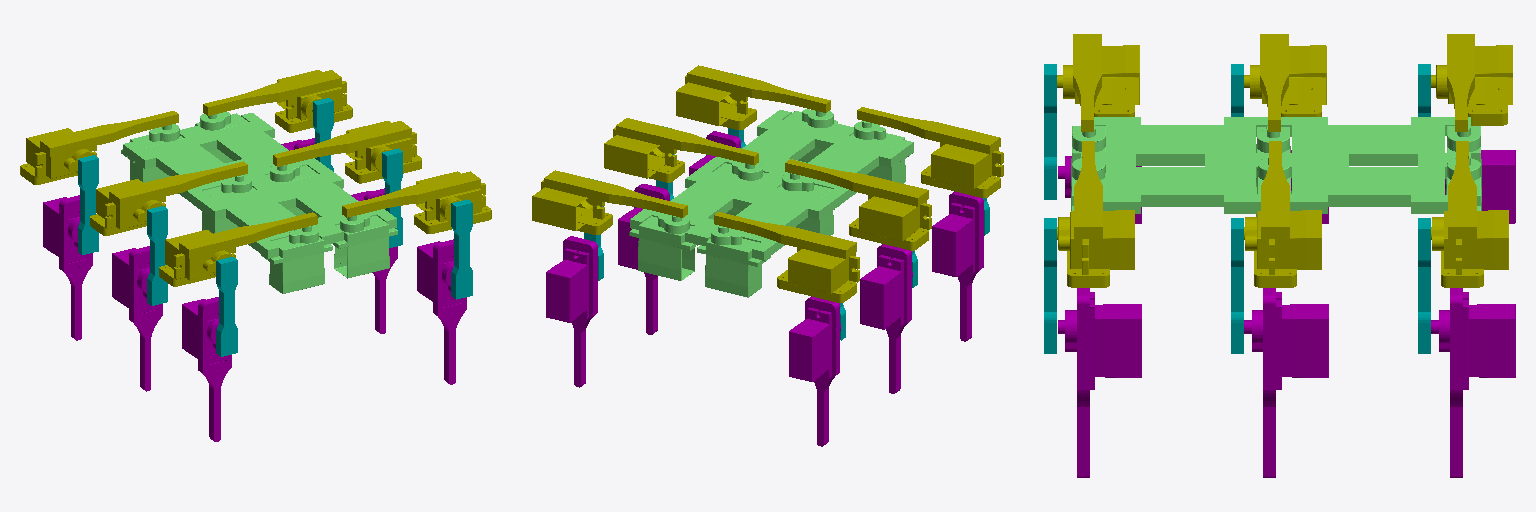
--- Facts derived from the render (not from the file) ---
Views: 3 orthographic renders of the robot side by side, from view 1: azimuth 30°, elevation 25°; view 2: azimuth 150°, elevation 25°; view 3: azimuth 270°, elevation 25°.
Robot: aranha — 44 links, 43 joints (18 revolute, 25 fixed); root link base_link; default pose: all joints at 0.
Visible links, largest first — view 1: thorax, coxa_1, coxa_3, coxa_2, coxa_4, coxa_5, coxa_6, tibia_6, tibia_3, tibia_2, tibia_1, femur_3 (+6 smaller); view 2: thorax, coxa_2, coxa_3, coxa_1, coxa_4, coxa_5, coxa_6, tibia_4, tibia_2, tibia_3, tibia_1, tibia_5 (+1 smaller); view 3: thorax, tibia_4, tibia_5, tibia_6, coxa_5, coxa_4, coxa_6, coxa_1, coxa_2, coxa_3, tibia_1, femur_3 (+5 smaller).
Link boxes in pixels (x1,y1,x2,y2): thorax: (121, 112, 397, 293); coxa_1: (20, 111, 178, 184); coxa_3: (159, 212, 317, 286); coxa_2: (90, 161, 247, 235); coxa_4: (203, 70, 352, 132); coxa_5: (273, 121, 421, 183); coxa_6: (342, 171, 491, 233); tibia_6: (417, 239, 466, 384); tibia_3: (182, 297, 231, 441); tibia_2: (112, 246, 162, 391); tibia_1: (43, 195, 92, 340); femur_3: (216, 257, 237, 356); thorax: (629, 109, 913, 297); coxa_2: (785, 159, 931, 250); coxa_3: (857, 107, 1003, 197); coxa_1: (714, 212, 859, 302); coxa_4: (532, 170, 687, 234); coxa_5: (604, 118, 758, 182); coxa_6: (676, 65, 830, 129); tibia_4: (546, 236, 597, 387); tibia_2: (860, 244, 912, 393); tibia_3: (932, 191, 983, 341); tibia_1: (789, 296, 840, 446); tibia_5: (618, 184, 669, 334); thorax: (1071, 117, 1481, 216); tibia_4: (1431, 288, 1515, 477); tibia_5: (1244, 288, 1328, 477); tibia_6: (1058, 288, 1141, 477); coxa_5: (1244, 141, 1321, 287); coxa_4: (1431, 141, 1508, 287); coxa_6: (1057, 141, 1134, 287); coxa_1: (1431, 34, 1512, 131); coxa_2: (1244, 34, 1326, 131); coxa_3: (1057, 34, 1139, 131); tibia_1: (1445, 150, 1515, 223); femur_3: (1044, 64, 1056, 199).
Bounding box of the posed robot: 1.68 × 1.64 × 1.03 m (x, y, z).
Meshes: 5 distinct files referenced, 19 mesh visuals loaded (5 binary STL).

URDF robot description (aranha):
<?xml version="1.0" ?>
<!-- =================================================================================== -->
<!-- |    This document was autogenerated by xacro from aranha_modelo.xacro            | -->
<!-- |    EDITING THIS FILE BY HAND IS NOT RECOMMENDED                                 | -->
<!-- =================================================================================== -->
<robot name="aranha" xmlns:xacro="http://ros.org/wiki/xacro">
  <!--###################### Comunicacao com gazebo ###########################-->
  <gazebo>
    <plugin filename="libgazebo_ros_control.so" name="gazebo_ros_control">
      <robotNamespace>/crab</robotNamespace>
      <!--Nao sei o que faz -->
    </plugin>
  </gazebo>
  <!--######################## Faz a Base do Robo #############################-->
  <link name="base_link"/>
  <joint name="base_joint" type="fixed">
    <axis xyz="0 0 1"/>
    <parent link="base_link"/>
    <child link="thorax"/>
    <!-- <origin rpy="0 0 ${pi/2}" xyz="0 0 ${altura_base}"/> -->
    <origin rpy="0 0 0" xyz="0 0 0"/>
  </joint>
  <link name="thorax">
    <visual>
      <geometry>
        <mesh filename="package://robot_description/meshes/base.stl" scale="0.01 0.01 0.01"/>
      </geometry>
      <origin rpy="0 0 1.57079632679" xyz="0 0 0.8"/>
      <material name="verde_limao">
        <color rgba="0.5 0.9 0.5 1"/>
      </material>
    </visual>
  </link>
  <!--Joint e Link para fixar coxa (caso contrario gira em torno do centro da base)-->
  <joint name="perna_centro_joint_1" type="fixed">
    <axis xyz="0 0 1"/>
    <origin rpy="0 0 0" xyz="-0.115 0.65 0.91"/>
    <!-- imp -->
    <parent link="thorax"/>
    <child link="perna_centro_1"/>
  </joint>
  <link name="perna_centro_1">
    <inertial>
      <origin rpy="0.0 0.0 0.0" xyz="0.0 0.0 0.0"/>
      <mass value="0.00001"/>
      <inertia ixx="1" ixy="0" ixz="0" iyy="1" iyz="0" izz="1"/>
    </inertial>
  </link>
  <!--..............Joint entre "thorax"(thorax) e coxa / Link da Coxa ..........-->
  <joint name="coxa_joint_1" type="revolute">
    <parent link="perna_centro_1"/>
    <axis xyz="0 0 1"/>
    <origin rpy="0 0 0" xyz="0 0 0"/>
    <!-- segundo-->
    <child link="coxa_1"/>
    <limit effort="10000" lower="-1.57079632679" upper="1.57079632679" velocity="100"/>
  </joint>
  <transmission name="coxa_transmission_1">
    <type>transmission_interface/SimpleTransmission</type>
    <joint name="coxa_joint_1">
      <hardwareInterface>EffortJointInterface</hardwareInterface>
    </joint>
    <actuator name="coxa_motor_1">
      <hardwareInterface>EffortJointInterface</hardwareInterface>
      <mechanicalReduction>1</mechanicalReduction>
    </actuator>
  </transmission>
  <link name="coxa_1">
    <visual>
      <origin rpy="0 0 0" xyz="0 0 0"/>
      <geometry>
        <mesh filename="package://robot_description/meshes/coxa_e.stl" scale="0.01 0.01 0.01"/>
      </geometry>
      <material name="">
        <color rgba="0.7 0.7 0 1"/>
      </material>
    </visual>
    <collision>
      <origin rpy="0 0 0" xyz="0 0 0"/>
      <geometry>
        <mesh filename="package://robot_description/meshes/coxa_e.stl" scale="0.01 0.01 0.01"/>
      </geometry>
      <material name="">
        <color rgba="0.7 0.7 0 1"/>
      </material>
    </collision>
    <inertial>
      <origin rpy="0.0 0.0 0.0" xyz="0.0 0.0 0.0"/>
      <!--Acho que sao os valores do centro de massa/10-->
      <mass value="0.00001"/>
      <inertia ixx="1" ixy="0" ixz="0" iyy="1" iyz="0" izz="1"/>
    </inertial>
  </link>
  <gazebo reference="coxa_1">
    <mu1>0.2</mu1>
    <mu2>0.2</mu2>
  </gazebo>
  <!--.................Joint entre coxa e femur / Link ddo
    Femur. .............-->
  <joint name="femur_centro_1" type="fixed">
    <axis xyz="0 1 0"/>
    <origin rpy=" 0 0 0" xyz="-0.52 -0.15 -0.05"/>
    <parent link="coxa_1"/>
    <child link="femur_centro_1"/>
  </joint>
  <link name="femur_centro_1">
    <inertial>
      <origin rpy="0.0 0.0 0.0" xyz="0.0 0.0 0.0"/>
      <mass value="0.00001"/>
      <inertia ixx="1" ixy="0" ixz="0" iyy="1" iyz="0" izz="1"/>
    </inertial>
  </link>
  <joint name="femur_joint_1" type="revolute">
    <origin rpy="0 0 0" xyz="0 0 0"/>
    <parent link="femur_centro_1"/>
    <child link="femur_1"/>
    <axis xyz="0 1 0"/>
    <limit effort="10000" lower="-1.57079632679" upper="1.57079632679" velocity="100"/>
  </joint>
  <transmission name="femur_transmission_1">
    <type>transmission_interface/SimpleTransmission</type>
    <joint name="femur_joint_1">
      <hardwareInterface>EffortJointInterface</hardwareInterface>
    </joint>
    <actuator name="femur_motor_1">
      <hardwareInterface>EffortJointInterface</hardwareInterface>
      <mechanicalReduction>1</mechanicalReduction>
    </actuator>
  </transmission>
  <link name="femur_1">
    <visual>
      <origin rpy="0 0 0" xyz="0 0 0"/>
      <geometry>
        <mesh filename="package://robot_description/meshes/femur.stl" scale="0.01 0.01 0.01"/>
      </geometry>
      <material name="">
        <color rgba="0 0.7 0.7 1"/>
      </material>
    </visual>
    <collision>
      <origin rpy="0 0 0" xyz="0 0 0"/>
      <geometry>
        <mesh filename="package://robot_description/meshes/femur.stl" scale="0.01 0.01 0.01"/>
      </geometry>
      <material name="">
        <color rgba="0 0.7 0.7 1"/>
      </material>
    </collision>
    <inertial>
      <origin rpy="0.0 0.0 0.0" xyz="0.0 0.0 0.0"/>
      <mass value="0.00001"/>
      <inertia ixx="1" ixy="0" ixz="0" iyy="1" iyz="0" izz="1"/>
    </inertial>
  </link>
  <gazebo reference="femur_1">
    <mu1>0.2</mu1>
    <mu2>0.2</mu2>
  </gazebo>
  <!--.................Joint entre femur e Tibia / Link do Tibia. .............-->
  <!--Joint e Link para fixar coxa (caso contrario gira em torno do centro da base)-->
  <joint name="tibia_centro_1" type="fixed">
    <axis xyz="0 1 0"/>
    <origin rpy="0 0 0" xyz="0 0.045 -0.36"/>
    <parent link="femur_1"/>
    <child link="tibia_centro_1"/>
  </joint>
  <link name="tibia_centro_1">
    <inertial>
      <origin rpy="0.0 0.0 0.0" xyz="0.0 0.0 0.0"/>
      <mass value="0.00001"/>
      <inertia ixx="1" ixy="0" ixz="0" iyy="1" iyz="0" izz="1"/>
    </inertial>
  </link>
  <joint name="tibia_joint_1" type="revolute">
    <origin rpy="0 0 0" xyz="0 0 0"/>
    <parent link="tibia_centro_1"/>
    <child link="tibia_1"/>
    <axis xyz="0 1 0"/>
    <limit effort="10000" lower="-1.57079632679" upper="1.57079632679" velocity="100"/>
  </joint>
  <transmission name="tibia_transmission_1">
    <type>transmission_interface/SimpleTransmission</type>
    <joint name="tibia_joint_1">
      <hardwareInterface>EffortJointInterface</hardwareInterface>
    </joint>
    <actuator name="tibia_motor_1">
      <hardwareInterface>EffortJointInterface</hardwareInterface>
      <mechanicalReduction>1</mechanicalReduction>
    </actuator>
  </transmission>
  <link name="tibia_1">
    <visual>
      <origin rpy="0 0 0 " xyz="-0 0 0"/>
      <geometry>
        <mesh filename="package://robot_description/meshes/tibia.stl" scale="0.01 0.01 0.01"/>
      </geometry>
      <material name="">
        <color rgba="0.7 0 0.7 1"/>
      </material>
    </visual>
    <collision>
      <origin rpy="0 0 0 " xyz="0.0 0.0 0"/>
      <geometry>
        <mesh filename="package://robot_description/meshes/tibia.stl" scale="0.01 0.01 0.01"/>
      </geometry>
      <material name="">
        <color rgba="0 0.7 0.7 1"/>
      </material>
    </collision>
    <inertial>
      <origin rpy="0.0 0.0 0.0" xyz="0.0 0.0 0.0"/>
      <mass value="0.00001"/>
      <inertia ixx="1" ixy="0" ixz="0" iyy="1" iyz="0" izz="1"/>
    </inertial>
  </link>
  

!--............................. Patas......................................--&gt;

  <joint name="tibia_foot_joint_1" type="fixed">
    <axis xyz="0 0 1"/>
    <origin rpy="0 0 0" xyz="0 0.08 -0.57"/>
    <parent link="tibia_1"/>
    <child link="tibia_foot_1"/>
  </joint>
  <link name="tibia_foot_1">
</link>
  <!--Joint e Link para fixar coxa (caso contrario gira em torno do centro da base)-->
  <joint name="perna_centro_joint_2" type="fixed">
    <axis xyz="0 0 1"/>
    <origin rpy="0 0 0" xyz="-0.115 0 0.91"/>
    <!-- imp -->
    <parent link="thorax"/>
    <child link="perna_centro_2"/>
  </joint>
  <link name="perna_centro_2">
    <inertial>
      <origin rpy="0.0 0.0 0.0" xyz="0.0 0.0 0.0"/>
      <mass value="0.00001"/>
      <inertia ixx="1" ixy="0" ixz="0" iyy="1" iyz="0" izz="1"/>
    </inertial>
  </link>
  <!--..............Joint entre "thorax"(thorax) e coxa / Link da Coxa ..........-->
  <joint name="coxa_joint_2" type="revolute">
    <parent link="perna_centro_2"/>
    <axis xyz="0 0 1"/>
    <origin rpy="0 0 0" xyz="0 0 0"/>
    <!-- segundo-->
    <child link="coxa_2"/>
    <limit effort="10000" lower="-1.57079632679" upper="1.57079632679" velocity="100"/>
  </joint>
  <transmission name="coxa_transmission_2">
    <type>transmission_interface/SimpleTransmission</type>
    <joint name="coxa_joint_2">
      <hardwareInterface>EffortJointInterface</hardwareInterface>
    </joint>
    <actuator name="coxa_motor_2">
      <hardwareInterface>EffortJointInterface</hardwareInterface>
      <mechanicalReduction>1</mechanicalReduction>
    </actuator>
  </transmission>
  <link name="coxa_2">
    <visual>
      <origin rpy="0 0 0" xyz="0 0 0"/>
      <geometry>
        <mesh filename="package://robot_description/meshes/coxa_e.stl" scale="0.01 0.01 0.01"/>
      </geometry>
      <material name="">
        <color rgba="0.7 0.7 0 1"/>
      </material>
    </visual>
    <collision>
      <origin rpy="0 0 0" xyz="0 0 0"/>
      <geometry>
        <mesh filename="package://robot_description/meshes/coxa_e.stl" scale="0.01 0.01 0.01"/>
      </geometry>
      <material name="">
        <color rgba="0.7 0.7 0 1"/>
      </material>
    </collision>
    <inertial>
      <origin rpy="0.0 0.0 0.0" xyz="0.0 0.0 0.0"/>
      <!--Acho que sao os valores do centro de massa/10-->
      <mass value="0.00001"/>
      <inertia ixx="1" ixy="0" ixz="0" iyy="1" iyz="0" izz="1"/>
    </inertial>
  </link>
  <gazebo reference="coxa_2">
    <mu1>0.2</mu1>
    <mu2>0.2</mu2>
  </gazebo>
  <!--.................Joint entre coxa e femur / Link ddo
    Femur. .............-->
  <joint name="femur_centro_2" type="fixed">
    <axis xyz="0 1 0"/>
    <origin rpy=" 0 0 0" xyz="-0.52 -0.15 -0.05"/>
    <parent link="coxa_2"/>
    <child link="femur_centro_2"/>
  </joint>
  <link name="femur_centro_2">
    <inertial>
      <origin rpy="0.0 0.0 0.0" xyz="0.0 0.0 0.0"/>
      <mass value="0.00001"/>
      <inertia ixx="1" ixy="0" ixz="0" iyy="1" iyz="0" izz="1"/>
    </inertial>
  </link>
  <joint name="femur_joint_2" type="revolute">
    <origin rpy="0 0 0" xyz="0 0 0"/>
    <parent link="femur_centro_2"/>
    <child link="femur_2"/>
    <axis xyz="0 1 0"/>
    <limit effort="10000" lower="-1.57079632679" upper="1.57079632679" velocity="100"/>
  </joint>
  <transmission name="femur_transmission_2">
    <type>transmission_interface/SimpleTransmission</type>
    <joint name="femur_joint_2">
      <hardwareInterface>EffortJointInterface</hardwareInterface>
    </joint>
    <actuator name="femur_motor_2">
      <hardwareInterface>EffortJointInterface</hardwareInterface>
      <mechanicalReduction>1</mechanicalReduction>
    </actuator>
  </transmission>
  <link name="femur_2">
    <visual>
      <origin rpy="0 0 0" xyz="0 0 0"/>
      <geometry>
        <mesh filename="package://robot_description/meshes/femur.stl" scale="0.01 0.01 0.01"/>
      </geometry>
      <material name="">
        <color rgba="0 0.7 0.7 1"/>
      </material>
    </visual>
    <collision>
      <origin rpy="0 0 0" xyz="0 0 0"/>
      <geometry>
        <mesh filename="package://robot_description/meshes/femur.stl" scale="0.01 0.01 0.01"/>
      </geometry>
      <material name="">
        <color rgba="0 0.7 0.7 1"/>
      </material>
    </collision>
    <inertial>
      <origin rpy="0.0 0.0 0.0" xyz="0.0 0.0 0.0"/>
      <mass value="0.00001"/>
      <inertia ixx="1" ixy="0" ixz="0" iyy="1" iyz="0" izz="1"/>
    </inertial>
  </link>
  <gazebo reference="femur_2">
    <mu1>0.2</mu1>
    <mu2>0.2</mu2>
  </gazebo>
  <!--.................Joint entre femur e Tibia / Link do Tibia. .............-->
  <!--Joint e Link para fixar coxa (caso contrario gira em torno do centro da base)-->
  <joint name="tibia_centro_2" type="fixed">
    <axis xyz="0 1 0"/>
    <origin rpy="0 0 0" xyz="0 0.045 -0.36"/>
    <parent link="femur_2"/>
    <child link="tibia_centro_2"/>
  </joint>
  <link name="tibia_centro_2">
    <inertial>
      <origin rpy="0.0 0.0 0.0" xyz="0.0 0.0 0.0"/>
      <mass value="0.00001"/>
      <inertia ixx="1" ixy="0" ixz="0" iyy="1" iyz="0" izz="1"/>
    </inertial>
  </link>
  <joint name="tibia_joint_2" type="revolute">
    <origin rpy="0 0 0" xyz="0 0 0"/>
    <parent link="tibia_centro_2"/>
    <child link="tibia_2"/>
    <axis xyz="0 1 0"/>
    <limit effort="10000" lower="-1.57079632679" upper="1.57079632679" velocity="100"/>
  </joint>
  <transmission name="tibia_transmission_2">
    <type>transmission_interface/SimpleTransmission</type>
    <joint name="tibia_joint_2">
      <hardwareInterface>EffortJointInterface</hardwareInterface>
    </joint>
    <actuator name="tibia_motor_2">
      <hardwareInterface>EffortJointInterface</hardwareInterface>
      <mechanicalReduction>1</mechanicalReduction>
    </actuator>
  </transmission>
  <link name="tibia_2">
    <visual>
      <origin rpy="0 0 0 " xyz="-0 0 0"/>
      <geometry>
        <mesh filename="package://robot_description/meshes/tibia.stl" scale="0.01 0.01 0.01"/>
      </geometry>
      <material name="">
        <color rgba="0.7 0 0.7 1"/>
      </material>
    </visual>
    <collision>
      <origin rpy="0 0 0 " xyz="0.0 0.0 0"/>
      <geometry>
        <mesh filename="package://robot_description/meshes/tibia.stl" scale="0.01 0.01 0.01"/>
      </geometry>
      <material name="">
        <color rgba="0 0.7 0.7 1"/>
      </material>
    </collision>
    <inertial>
      <origin rpy="0.0 0.0 0.0" xyz="0.0 0.0 0.0"/>
      <mass value="0.00001"/>
      <inertia ixx="1" ixy="0" ixz="0" iyy="1" iyz="0" izz="1"/>
    </inertial>
  </link>
  

!--............................. Patas......................................--&gt;

  <joint name="tibia_foot_joint_2" type="fixed">
    <axis xyz="0 0 1"/>
    <origin rpy="0 0 0" xyz="0 0.08 -0.57"/>
    <parent link="tibia_2"/>
    <child link="tibia_foot_2"/>
  </joint>
  <link name="tibia_foot_2">
</link>
  <!--Joint e Link para fixar coxa (caso contrario gira em torno do centro da base)-->
  <joint name="perna_centro_joint_3" type="fixed">
    <axis xyz="0 0 1"/>
    <origin rpy="0 0 0" xyz="-0.115 -0.65 0.91"/>
    <!-- imp -->
    <parent link="thorax"/>
    <child link="perna_centro_3"/>
  </joint>
  <link name="perna_centro_3">
    <inertial>
      <origin rpy="0.0 0.0 0.0" xyz="0.0 0.0 0.0"/>
      <mass value="0.00001"/>
      <inertia ixx="1" ixy="0" ixz="0" iyy="1" iyz="0" izz="1"/>
    </inertial>
  </link>
  <!--..............Joint entre "thorax"(thorax) e coxa / Link da Coxa ..........-->
  <joint name="coxa_joint_3" type="revolute">
    <parent link="perna_centro_3"/>
    <axis xyz="0 0 1"/>
    <origin rpy="0 0 0" xyz="0 0 0"/>
    <!-- segundo-->
    <child link="coxa_3"/>
    <limit effort="10000" lower="-1.57079632679" upper="1.57079632679" velocity="100"/>
  </joint>
  <transmission name="coxa_transmission_3">
    <type>transmission_interface/SimpleTransmission</type>
    <joint name="coxa_joint_3">
      <hardwareInterface>EffortJointInterface</hardwareInterface>
    </joint>
    <actuator name="coxa_motor_3">
      <hardwareInterface>EffortJointInterface</hardwareInterface>
      <mechanicalReduction>1</mechanicalReduction>
    </actuator>
  </transmission>
  <link name="coxa_3">
    <visual>
      <origin rpy="0 0 0" xyz="0 0 0"/>
      <geometry>
        <mesh filename="package://robot_description/meshes/coxa_e.stl" scale="0.01 0.01 0.01"/>
      </geometry>
      <material name="">
        <color rgba="0.7 0.7 0 1"/>
      </material>
    </visual>
    <collision>
      <origin rpy="0 0 0" xyz="0 0 0"/>
      <geometry>
        <mesh filename="package://robot_description/meshes/coxa_e.stl" scale="0.01 0.01 0.01"/>
      </geometry>
      <material name="">
        <color rgba="0.7 0.7 0 1"/>
      </material>
    </collision>
    <inertial>
      <origin rpy="0.0 0.0 0.0" xyz="0.0 0.0 0.0"/>
      <!--Acho que sao os valores do centro de massa/10-->
      <mass value="0.00001"/>
      <inertia ixx="1" ixy="0" ixz="0" iyy="1" iyz="0" izz="1"/>
    </inertial>
  </link>
  <gazebo reference="coxa_3">
    <mu1>0.2</mu1>
    <mu2>0.2</mu2>
  </gazebo>
  <!--.................Joint entre coxa e femur / Link ddo
    Femur. .............-->
  <joint name="femur_centro_3" type="fixed">
    <axis xyz="0 1 0"/>
    <origin rpy=" 0 0 0" xyz="-0.52 -0.15 -0.05"/>
    <parent link="coxa_3"/>
    <child link="femur_centro_3"/>
  </joint>
  <link name="femur_centro_3">
    <inertial>
      <origin rpy="0.0 0.0 0.0" xyz="0.0 0.0 0.0"/>
      <mass value="0.00001"/>
      <inertia ixx="1" ixy="0" ixz="0" iyy="1" iyz="0" izz="1"/>
    </inertial>
  </link>
  <joint name="femur_joint_3" type="revolute">
    <origin rpy="0 0 0" xyz="0 0 0"/>
    <parent link="femur_centro_3"/>
    <child link="femur_3"/>
    <axis xyz="0 1 0"/>
    <limit effort="10000" lower="-1.57079632679" upper="1.57079632679" velocity="100"/>
  </joint>
  <transmission name="femur_transmission_3">
    <type>transmission_interface/SimpleTransmission</type>
    <joint name="femur_joint_3">
      <hardwareInterface>EffortJointInterface</hardwareInterface>
    </joint>
    <actuator name="femur_motor_3">
      <hardwareInterface>EffortJointInterface</hardwareInterface>
      <mechanicalReduction>1</mechanicalReduction>
    </actuator>
  </transmission>
  <link name="femur_3">
    <visual>
      <origin rpy="0 0 0" xyz="0 0 0"/>
      <geometry>
        <mesh filename="package://robot_description/meshes/femur.stl" scale="0.01 0.01 0.01"/>
      </geometry>
      <material name="">
        <color rgba="0 0.7 0.7 1"/>
      </material>
    </visual>
    <collision>
      <origin rpy="0 0 0" xyz="0 0 0"/>
      <geometry>
        <mesh filename="package://robot_description/meshes/femur.stl" scale="0.01 0.01 0.01"/>
      </geometry>
      <material name="">
        <color rgba="0 0.7 0.7 1"/>
      </material>
    </collision>
    <inertial>
      <origin rpy="0.0 0.0 0.0" xyz="0.0 0.0 0.0"/>
      <mass value="0.00001"/>
      <inertia ixx="1" ixy="0" ixz="0" iyy="1" iyz="0" izz="1"/>
    </inertial>
  </link>
  <gazebo reference="femur_3">
    <mu1>0.2</mu1>
    <mu2>0.2</mu2>
  </gazebo>
  <!--.................Joint entre femur e Tibia / Link do Tibia. .............-->
  <!--Joint e Link para fixar coxa (caso contrario gira em torno do centro da base)-->
  <joint name="tibia_centro_3" type="fixed">
    <axis xyz="0 1 0"/>
    <origin rpy="0 0 0" xyz="0 0.045 -0.36"/>
    <parent link="femur_3"/>
    <child link="tibia_centro_3"/>
  </joint>
  <link name="tibia_centro_3">
    <inertial>
      <origin rpy="0.0 0.0 0.0" xyz="0.0 0.0 0.0"/>
      <mass value="0.00001"/>
      <inertia ixx="1" ixy="0" ixz="0" iyy="1" iyz="0" izz="1"/>
    </inertial>
  </link>
  <joint name="tibia_joint_3" type="revolute">
    <origin rpy="0 0 0" xyz="0 0 0"/>
    <parent link="tibia_centro_3"/>
    <child link="tibia_3"/>
    <axis xyz="0 1 0"/>
    <limit effort="10000" lower="-1.57079632679" upper="1.57079632679" velocity="100"/>
  </joint>
  <transmission name="tibia_transmission_3">
    <type>transmission_interface/SimpleTransmission</type>
    <joint name="tibia_joint_3">
      <hardwareInterface>EffortJointInterface</hardwareInterface>
    </joint>
    <actuator name="tibia_motor_3">
      <hardwareInterface>EffortJointInterface</hardwareInterface>
      <mechanicalReduction>1</mechanicalReduction>
    </actuator>
  </transmission>
  <link name="tibia_3">
    <visual>
      <origin rpy="0 0 0 " xyz="-0 0 0"/>
      <geometry>
        <mesh filename="package://robot_description/meshes/tibia.stl" scale="0.01 0.01 0.01"/>
      </geometry>
      <material name="">
        <color rgba="0.7 0 0.7 1"/>
      </material>
    </visual>
    <collision>
      <origin rpy="0 0 0 " xyz="0.0 0.0 0"/>
      <geometry>
        <mesh filename="package://robot_description/meshes/tibia.stl" scale="0.01 0.01 0.01"/>
      </geometry>
      <material name="">
        <color rgba="0 0.7 0.7 1"/>
      </material>
    </collision>
    <inertial>
      <origin rpy="0.0 0.0 0.0" xyz="0.0 0.0 0.0"/>
      <mass value="0.00001"/>
      <inertia ixx="1" ixy="0" ixz="0" iyy="1" iyz="0" izz="1"/>
    </inertial>
  </link>
  

!--............................. Patas......................................--&gt;

  <joint name="tibia_foot_joint_3" type="fixed">
    <axis xyz="0 0 1"/>
    <origin rpy="0 0 0" xyz="0 0.08 -0.57"/>
    <parent link="tibia_3"/>
    <child link="tibia_foot_3"/>
  </joint>
  <link name="tibia_foot_3">
</link>
  <!--Joint e Link para fixar coxa (caso contrario gira em torno do centro da base)-->
  <joint name="perna_centro_joint_4" type="fixed">
    <axis xyz="0 0 1"/>
    <origin rpy="0 0 0" xyz="0.115 0.65 0.91"/>
    <!-- imp -->
    <parent link="thorax"/>
    <child link="perna_centro_4"/>
  </joint>
  <link name="perna_centro_4">
    <inertial>
      <origin rpy="0.0 0.0 0.0" xyz="0.0 0.0 0.0"/>
      <mass value="0.00001"/>
      <inertia ixx="1" ixy="0" ixz="0" iyy="1" iyz="0" izz="1"/>
    </inertial>
  </link>
  <!--..............Joint entre "thorax"(thorax) e coxa / Link da Coxa ..........-->
  <joint name="coxa_joint_4" type="revolute">
    <parent link="perna_centro_4"/>
    <axis xyz="0 0 1"/>
    <origin rpy="0 0 0" xyz="0 0 0"/>
    <!-- segundo-->
    <child link="coxa_4"/>
    <limit effort="10000" lower="-1.57079632679" upper="1.57079632679" velocity="100"/>
  </joint>
  <transmission name="coxa_transmission_4">
    <type>transmission_interface/SimpleTransmission</type>
    <joint name="coxa_joint_4">
      <hardwareInterface>EffortJointInterface</hardwareInterface>
    </joint>
    <actuator name="coxa_motor_4">
      <hardwareInterface>EffortJointInterface</hardwareInterface>
      <mechanicalReduction>1</mechanicalReduction>
    </actuator>
  </transmission>
  <link name="coxa_4">
    <visual>
      <origin rpy="0 0 0" xyz="0 0 0"/>
      <geometry>
        <mesh filename="package://robot_description/meshes/coxa_d.stl" scale="0.01 0.01 0.01"/>
      </geometry>
      <material name="">
        <color rgba="0.7 0.7 0 1"/>
      </material>
    </visual>
    <collision>
      <origin rpy="0 0 0" xyz="0 0 0"/>
      <geometry>
        <mesh filename="package://robot_description/meshes/coxa_d.stl" scale="0.01 0.01 0.01"/>
      </geometry>
      <material name="">
        <color rgba="0.7 0.7 0 1"/>
      </material>
    </collision>
    <inertial>
      <origin rpy="0.0 0.0 0.0" xyz="0.0 0.0 0.0"/>
      <!--Acho que sao os valores do centro de massa/10-->
      <mass value="0.00001"/>
      <inertia ixx="1" ixy="0" ixz="0" iyy="1" iyz="0" izz="1"/>
    </inertial>
  </link>
  <gazebo reference="coxa_4">
    <mu1>0.2</mu1>
    <mu2>0.2</mu2>
  </gazebo>
  <!--.................Joint entre coxa e femur / Link ddo
    Femur. .............-->
  <joint name="femur_centro_4" type="fixed">
    <axis xyz="0 1 0"/>
    <origin rpy=" 0 0 0" xyz="0.52 -0.15 -0.05"/>
    <parent link="coxa_4"/>
    <child link="femur_centro_4"/>
  </joint>
  <link name="femur_centro_4">
    <inertial>
      <origin rpy="0.0 0.0 0.0" xyz="0.0 0.0 0.0"/>
      <mass value="0.00001"/>
      <inertia ixx="1" ixy="0" ixz="0" iyy="1" iyz="0" izz="1"/>
    </inertial>
  </link>
  <joint name="femur_joint_4" type="revolute">
    <origin rpy="0 0 0" xyz="0 0 0"/>
    <parent link="femur_centro_4"/>
    <child link="femur_4"/>
    <axis xyz="0 1 0"/>
    <limit effort="10000" lower="-1.57079632679" upper="1.57079632679" velocity="100"/>
  </joint>
  <transmission name="femur_transmission_4">
    <type>transmission_interface/SimpleTransmission</type>
    <joint name="femur_joint_4">
      <hardwareInterface>EffortJointInterface</hardwareInterface>
    </joint>
    <actuator name="femur_motor_4">
      <hardwareInterface>EffortJointInterface</hardwareInterface>
      <mechanicalReduction>1</mechanicalReduction>
    </actuator>
  </transmission>
  <link name="femur_4">
    <visual>
      <origin rpy="0 0 0" xyz="0 0 0"/>
      <geometry>
        <mesh filename="package://robot_description/meshes/femur.stl" scale="0.01 0.01 0.01"/>
      </geometry>
      <material name="">
        <color rgba="0 0.7 0.7 1"/>
      </material>
    </visual>
    <collision>
      <origin rpy="0 0 0" xyz="0 0 0"/>
      <geometry>
        <mesh filename="package://robot_description/meshes/femur.stl" scale="0.01 0.01 0.01"/>
      </geometry>
      <material name="">
        <color rgba="0 0.7 0.7 1"/>
      </material>
    </collision>
    <inertial>
      <origin rpy="0.0 0.0 0.0" xyz="0.0 0.0 0.0"/>
      <mass value="0.00001"/>
      <inertia ixx="1" ixy="0" ixz="0" iyy="1" iyz="0" izz="1"/>
    </inertial>
  </link>
  <gazebo reference="femur_4">
    <mu1>0.2</mu1>
    <mu2>0.2</mu2>
  </gazebo>
  <!--.................Joint entre femur e Tibia / Link do Tibia. .............-->
  <!--Joint e Link para fixar coxa (caso contrario gira em torno do centro da base)-->
  <joint name="tibia_centro_4" type="fixed">
    <axis xyz="0 1 0"/>
    <origin rpy="0 0 0" xyz="0 0.045 -0.36"/>
    <parent link="femur_4"/>
    <child link="tibia_centro_4"/>
  </joint>
  <link name="tibia_centro_4">
    <inertial>
      <origin rpy="0.0 0.0 0.0" xyz="0.0 0.0 0.0"/>
      <mass value="0.00001"/>
      <inertia ixx="1" ixy="0" ixz="0" iyy="1" iyz="0" izz="1"/>
    </inertial>
  </link>
  <joint name="tibia_joint_4" type="revolute">
    <origin rpy="0 0 0" xyz="0 0 0"/>
    <parent link="tibia_centro_4"/>
    <child link="tibia_4"/>
    <axis xyz="0 1 0"/>
    <limit effort="10000" lower="-1.57079632679" upper="1.57079632679" velocity="100"/>
  </joint>
  <transmission name="tibia_transmission_4">
    <type>transmission_interface/SimpleTransmission</type>
    <joint name="tibia_joint_4">
      <hardwareInterface>EffortJointInterface</hardwareInterface>
    </joint>
    <actuator name="tibia_motor_4">
      <hardwareInterface>EffortJointInterface</hardwareInterface>
      <mechanicalReduction>1</mechanicalReduction>
    </actuator>
  </transmission>
  <link name="tibia_4">
    <visual>
      <origin rpy="0 0 0 " xyz="-0 0 0"/>
      <geometry>
        <mesh filename="package://robot_description/meshes/tibia.stl" scale="0.01 0.01 0.01"/>
      </geometry>
      <material name="">
        <color rgba="0.7 0 0.7 1"/>
      </material>
    </visual>
    <collision>
      <origin rpy="0 0 0 " xyz="0.0 0.0 0"/>
      <geometry>
        <mesh filename="package://robot_description/meshes/tibia.stl" scale="0.01 0.01 0.01"/>
      </geometry>
      <material name="">
        <color rgba="0 0.7 0.7 1"/>
      </material>
    </collision>
    <inertial>
      <origin rpy="0.0 0.0 0.0" xyz="0.0 0.0 0.0"/>
      <mass value="0.00001"/>
      <inertia ixx="1" ixy="0" ixz="0" iyy="1" iyz="0" izz="1"/>
    </inertial>
  </link>
  

!--............................. Patas......................................--&gt;

  <joint name="tibia_foot_joint_4" type="fixed">
    <axis xyz="0 0 1"/>
    <origin rpy="0 0 0" xyz="0 0.08 -0.57"/>
    <parent link="tibia_4"/>
    <child link="tibia_foot_4"/>
  </joint>
  <link name="tibia_foot_4">
</link>
  <!--Joint e Link para fixar coxa (caso contrario gira em torno do centro da base)-->
  <joint name="perna_centro_joint_5" type="fixed">
    <axis xyz="0 0 1"/>
    <origin rpy="0 0 0" xyz="0.115 0 0.91"/>
    <!-- imp -->
    <parent link="thorax"/>
    <child link="perna_centro_5"/>
  </joint>
  <link name="perna_centro_5">
    <inertial>
      <origin rpy="0.0 0.0 0.0" xyz="0.0 0.0 0.0"/>
      <mass value="0.00001"/>
      <inertia ixx="1" ixy="0" ixz="0" iyy="1" iyz="0" izz="1"/>
    </inertial>
  </link>
  <!--..............Joint entre "thorax"(thorax) e coxa / Link da Coxa ..........-->
  <joint name="coxa_joint_5" type="revolute">
    <parent link="perna_centro_5"/>
    <axis xyz="0 0 1"/>
    <origin rpy="0 0 0" xyz="0 0 0"/>
    <!-- segundo-->
    <child link="coxa_5"/>
    <limit effort="10000" lower="-1.57079632679" upper="1.57079632679" velocity="100"/>
  </joint>
  <transmission name="coxa_transmission_5">
    <type>transmission_interface/SimpleTransmission</type>
    <joint name="coxa_joint_5">
      <hardwareInterface>EffortJointInterface</hardwareInterface>
    </joint>
    <actuator name="coxa_motor_5">
      <hardwareInterface>EffortJointInterface</hardwareInterface>
      <mechanicalReduction>1</mechanicalReduction>
    </actuator>
  </transmission>
  <link name="coxa_5">
    <visual>
      <origin rpy="0 0 0" xyz="0 0 0"/>
      <geometry>
        <mesh filename="package://robot_description/meshes/coxa_d.stl" scale="0.01 0.01 0.01"/>
      </geometry>
      <material name="">
        <color rgba="0.7 0.7 0 1"/>
      </material>
    </visual>
    <collision>
      <origin rpy="0 0 0" xyz="0 0 0"/>
      <geometry>
        <mesh filename="package://robot_description/meshes/coxa_d.stl" scale="0.01 0.01 0.01"/>
      </geometry>
      <material name="">
        <color rgba="0.7 0.7 0 1"/>
      </material>
    </collision>
    <inertial>
      <origin rpy="0.0 0.0 0.0" xyz="0.0 0.0 0.0"/>
      <!--Acho que sao os valores do centro de massa/10-->
      <mass value="0.00001"/>
      <inertia ixx="1" ixy="0" ixz="0" iyy="1" iyz="0" izz="1"/>
    </inertial>
  </link>
  <gazebo reference="coxa_5">
    <mu1>0.2</mu1>
    <mu2>0.2</mu2>
  </gazebo>
  <!--.................Joint entre coxa e femur / Link ddo
    Femur. .............-->
  <joint name="femur_centro_5" type="fixed">
    <axis xyz="0 1 0"/>
    <origin rpy=" 0 0 0" xyz="0.52 -0.15 -0.05"/>
    <parent link="coxa_5"/>
    <child link="femur_centro_5"/>
  </joint>
  <link name="femur_centro_5">
    <inertial>
      <origin rpy="0.0 0.0 0.0" xyz="0.0 0.0 0.0"/>
      <mass value="0.00001"/>
      <inertia ixx="1" ixy="0" ixz="0" iyy="1" iyz="0" izz="1"/>
    </inertial>
  </link>
  <joint name="femur_joint_5" type="revolute">
    <origin rpy="0 0 0" xyz="0 0 0"/>
    <parent link="femur_centro_5"/>
    <child link="femur_5"/>
    <axis xyz="0 1 0"/>
    <limit effort="10000" lower="-1.57079632679" upper="1.57079632679" velocity="100"/>
  </joint>
  <transmission name="femur_transmission_5">
    <type>transmission_interface/SimpleTransmission</type>
    <joint name="femur_joint_5">
      <hardwareInterface>EffortJointInterface</hardwareInterface>
    </joint>
    <actuator name="femur_motor_5">
      <hardwareInterface>EffortJointInterface</hardwareInterface>
      <mechanicalReduction>1</mechanicalReduction>
    </actuator>
  </transmission>
  <link name="femur_5">
    <visual>
      <origin rpy="0 0 0" xyz="0 0 0"/>
      <geometry>
        <mesh filename="package://robot_description/meshes/femur.stl" scale="0.01 0.01 0.01"/>
      </geometry>
      <material name="">
        <color rgba="0 0.7 0.7 1"/>
      </material>
    </visual>
    <collision>
      <origin rpy="0 0 0" xyz="0 0 0"/>
      <geometry>
        <mesh filename="package://robot_description/meshes/femur.stl" scale="0.01 0.01 0.01"/>
      </geometry>
      <material name="">
        <color rgba="0 0.7 0.7 1"/>
      </material>
    </collision>
    <inertial>
      <origin rpy="0.0 0.0 0.0" xyz="0.0 0.0 0.0"/>
      <mass value="0.00001"/>
      <inertia ixx="1" ixy="0" ixz="0" iyy="1" iyz="0" izz="1"/>
    </inertial>
  </link>
  <gazebo reference="femur_5">
    <mu1>0.2</mu1>
    <mu2>0.2</mu2>
  </gazebo>
  <!--.................Joint entre femur e Tibia / Link do Tibia. .............-->
  <!--Joint e Link para fixar coxa (caso contrario gira em torno do centro da base)-->
  <joint name="tibia_centro_5" type="fixed">
    <axis xyz="0 1 0"/>
    <origin rpy="0 0 0" xyz="0 0.045 -0.36"/>
    <parent link="femur_5"/>
    <child link="tibia_centro_5"/>
  </joint>
  <link name="tibia_centro_5">
    <inertial>
      <origin rpy="0.0 0.0 0.0" xyz="0.0 0.0 0.0"/>
      <mass value="0.00001"/>
      <inertia ixx="1" ixy="0" ixz="0" iyy="1" iyz="0" izz="1"/>
    </inertial>
  </link>
  <joint name="tibia_joint_5" type="revolute">
    <origin rpy="0 0 0" xyz="0 0 0"/>
    <parent link="tibia_centro_5"/>
    <child link="tibia_5"/>
    <axis xyz="0 1 0"/>
    <limit effort="10000" lower="-1.57079632679" upper="1.57079632679" velocity="100"/>
  </joint>
  <transmission name="tibia_transmission_5">
    <type>transmission_interface/SimpleTransmission</type>
    <joint name="tibia_joint_5">
      <hardwareInterface>EffortJointInterface</hardwareInterface>
    </joint>
    <actuator name="tibia_motor_5">
      <hardwareInterface>EffortJointInterface</hardwareInterface>
      <mechanicalReduction>1</mechanicalReduction>
    </actuator>
  </transmission>
  <link name="tibia_5">
    <visual>
      <origin rpy="0 0 0 " xyz="-0 0 0"/>
      <geometry>
        <mesh filename="package://robot_description/meshes/tibia.stl" scale="0.01 0.01 0.01"/>
      </geometry>
      <material name="">
        <color rgba="0.7 0 0.7 1"/>
      </material>
    </visual>
    <collision>
      <origin rpy="0 0 0 " xyz="0.0 0.0 0"/>
      <geometry>
        <mesh filename="package://robot_description/meshes/tibia.stl" scale="0.01 0.01 0.01"/>
      </geometry>
      <material name="">
        <color rgba="0 0.7 0.7 1"/>
      </material>
    </collision>
    <inertial>
      <origin rpy="0.0 0.0 0.0" xyz="0.0 0.0 0.0"/>
      <mass value="0.00001"/>
      <inertia ixx="1" ixy="0" ixz="0" iyy="1" iyz="0" izz="1"/>
    </inertial>
  </link>
  

!--............................. Patas......................................--&gt;

  <joint name="tibia_foot_joint_5" type="fixed">
    <axis xyz="0 0 1"/>
    <origin rpy="0 0 0" xyz="0 0.08 -0.57"/>
    <parent link="tibia_5"/>
    <child link="tibia_foot_5"/>
  </joint>
  <link name="tibia_foot_5">
</link>
  <!--Joint e Link para fixar coxa (caso contrario gira em torno do centro da base)-->
  <joint name="perna_centro_joint_6" type="fixed">
    <axis xyz="0 0 1"/>
    <origin rpy="0 0 0" xyz="0.115 -0.65 0.91"/>
    <!-- imp -->
    <parent link="thorax"/>
    <child link="perna_centro_6"/>
  </joint>
  <link name="perna_centro_6">
    <inertial>
      <origin rpy="0.0 0.0 0.0" xyz="0.0 0.0 0.0"/>
      <mass value="0.00001"/>
      <inertia ixx="1" ixy="0" ixz="0" iyy="1" iyz="0" izz="1"/>
    </inertial>
  </link>
  <!--..............Joint entre "thorax"(thorax) e coxa / Link da Coxa ..........-->
  <joint name="coxa_joint_6" type="revolute">
    <parent link="perna_centro_6"/>
    <axis xyz="0 0 1"/>
    <origin rpy="0 0 0" xyz="0 0 0"/>
    <!-- segundo-->
    <child link="coxa_6"/>
    <limit effort="10000" lower="-1.57079632679" upper="1.57079632679" velocity="100"/>
  </joint>
  <transmission name="coxa_transmission_6">
    <type>transmission_interface/SimpleTransmission</type>
    <joint name="coxa_joint_6">
      <hardwareInterface>EffortJointInterface</hardwareInterface>
    </joint>
    <actuator name="coxa_motor_6">
      <hardwareInterface>EffortJointInterface</hardwareInterface>
      <mechanicalReduction>1</mechanicalReduction>
    </actuator>
  </transmission>
  <link name="coxa_6">
    <visual>
      <origin rpy="0 0 0" xyz="0 0 0"/>
      <geometry>
        <mesh filename="package://robot_description/meshes/coxa_d.stl" scale="0.01 0.01 0.01"/>
      </geometry>
      <material name="">
        <color rgba="0.7 0.7 0 1"/>
      </material>
    </visual>
    <collision>
      <origin rpy="0 0 0" xyz="0 0 0"/>
      <geometry>
        <mesh filename="package://robot_description/meshes/coxa_d.stl" scale="0.01 0.01 0.01"/>
      </geometry>
      <material name="">
        <color rgba="0.7 0.7 0 1"/>
      </material>
    </collision>
    <inertial>
      <origin rpy="0.0 0.0 0.0" xyz="0.0 0.0 0.0"/>
      <!--Acho que sao os valores do centro de massa/10-->
      <mass value="0.00001"/>
      <inertia ixx="1" ixy="0" ixz="0" iyy="1" iyz="0" izz="1"/>
    </inertial>
  </link>
  <gazebo reference="coxa_6">
    <mu1>0.2</mu1>
    <mu2>0.2</mu2>
  </gazebo>
  <!--.................Joint entre coxa e femur / Link ddo
    Femur. .............-->
  <joint name="femur_centro_6" type="fixed">
    <axis xyz="0 1 0"/>
    <origin rpy=" 0 0 0" xyz="0.52 -0.15 -0.05"/>
    <parent link="coxa_6"/>
    <child link="femur_centro_6"/>
  </joint>
  <link name="femur_centro_6">
    <inertial>
      <origin rpy="0.0 0.0 0.0" xyz="0.0 0.0 0.0"/>
      <mass value="0.00001"/>
      <inertia ixx="1" ixy="0" ixz="0" iyy="1" iyz="0" izz="1"/>
    </inertial>
  </link>
  <joint name="femur_joint_6" type="revolute">
    <origin rpy="0 0 0" xyz="0 0 0"/>
    <parent link="femur_centro_6"/>
    <child link="femur_6"/>
    <axis xyz="0 1 0"/>
    <limit effort="10000" lower="-1.57079632679" upper="1.57079632679" velocity="100"/>
  </joint>
  <transmission name="femur_transmission_6">
    <type>transmission_interface/SimpleTransmission</type>
    <joint name="femur_joint_6">
      <hardwareInterface>EffortJointInterface</hardwareInterface>
    </joint>
    <actuator name="femur_motor_6">
      <hardwareInterface>EffortJointInterface</hardwareInterface>
      <mechanicalReduction>1</mechanicalReduction>
    </actuator>
  </transmission>
  <link name="femur_6">
    <visual>
      <origin rpy="0 0 0" xyz="0 0 0"/>
      <geometry>
        <mesh filename="package://robot_description/meshes/femur.stl" scale="0.01 0.01 0.01"/>
      </geometry>
      <material name="">
        <color rgba="0 0.7 0.7 1"/>
      </material>
    </visual>
    <collision>
      <origin rpy="0 0 0" xyz="0 0 0"/>
      <geometry>
        <mesh filename="package://robot_description/meshes/femur.stl" scale="0.01 0.01 0.01"/>
      </geometry>
      <material name="">
        <color rgba="0 0.7 0.7 1"/>
      </material>
    </collision>
    <inertial>
      <origin rpy="0.0 0.0 0.0" xyz="0.0 0.0 0.0"/>
      <mass value="0.00001"/>
      <inertia ixx="1" ixy="0" ixz="0" iyy="1" iyz="0" izz="1"/>
    </inertial>
  </link>
  <gazebo reference="femur_6">
    <mu1>0.2</mu1>
    <mu2>0.2</mu2>
  </gazebo>
  <!--.................Joint entre femur e Tibia / Link do Tibia. .............-->
  <!--Joint e Link para fixar coxa (caso contrario gira em torno do centro da base)-->
  <joint name="tibia_centro_6" type="fixed">
    <axis xyz="0 1 0"/>
    <origin rpy="0 0 0" xyz="0 0.045 -0.36"/>
    <parent link="femur_6"/>
    <child link="tibia_centro_6"/>
  </joint>
  <link name="tibia_centro_6">
    <inertial>
      <origin rpy="0.0 0.0 0.0" xyz="0.0 0.0 0.0"/>
      <mass value="0.00001"/>
      <inertia ixx="1" ixy="0" ixz="0" iyy="1" iyz="0" izz="1"/>
    </inertial>
  </link>
  <joint name="tibia_joint_6" type="revolute">
    <origin rpy="0 0 0" xyz="0 0 0"/>
    <parent link="tibia_centro_6"/>
    <child link="tibia_6"/>
    <axis xyz="0 1 0"/>
    <limit effort="10000" lower="-1.57079632679" upper="1.57079632679" velocity="100"/>
  </joint>
  <transmission name="tibia_transmission_6">
    <type>transmission_interface/SimpleTransmission</type>
    <joint name="tibia_joint_6">
      <hardwareInterface>EffortJointInterface</hardwareInterface>
    </joint>
    <actuator name="tibia_motor_6">
      <hardwareInterface>EffortJointInterface</hardwareInterface>
      <mechanicalReduction>1</mechanicalReduction>
    </actuator>
  </transmission>
  <link name="tibia_6">
    <visual>
      <origin rpy="0 0 0 " xyz="-0 0 0"/>
      <geometry>
        <mesh filename="package://robot_description/meshes/tibia.stl" scale="0.01 0.01 0.01"/>
      </geometry>
      <material name="">
        <color rgba="0.7 0 0.7 1"/>
      </material>
    </visual>
    <collision>
      <origin rpy="0 0 0 " xyz="0.0 0.0 0"/>
      <geometry>
        <mesh filename="package://robot_description/meshes/tibia.stl" scale="0.01 0.01 0.01"/>
      </geometry>
      <material name="">
        <color rgba="0 0.7 0.7 1"/>
      </material>
    </collision>
    <inertial>
      <origin rpy="0.0 0.0 0.0" xyz="0.0 0.0 0.0"/>
      <mass value="0.00001"/>
      <inertia ixx="1" ixy="0" ixz="0" iyy="1" iyz="0" izz="1"/>
    </inertial>
  </link>
  

!--............................. Patas......................................--&gt;

  <joint name="tibia_foot_joint_6" type="fixed">
    <axis xyz="0 0 1"/>
    <origin rpy="0 0 0" xyz="0 0.08 -0.57"/>
    <parent link="tibia_6"/>
    <child link="tibia_foot_6"/>
  </joint>
  <link name="tibia_foot_6">
</link>
</robot>
